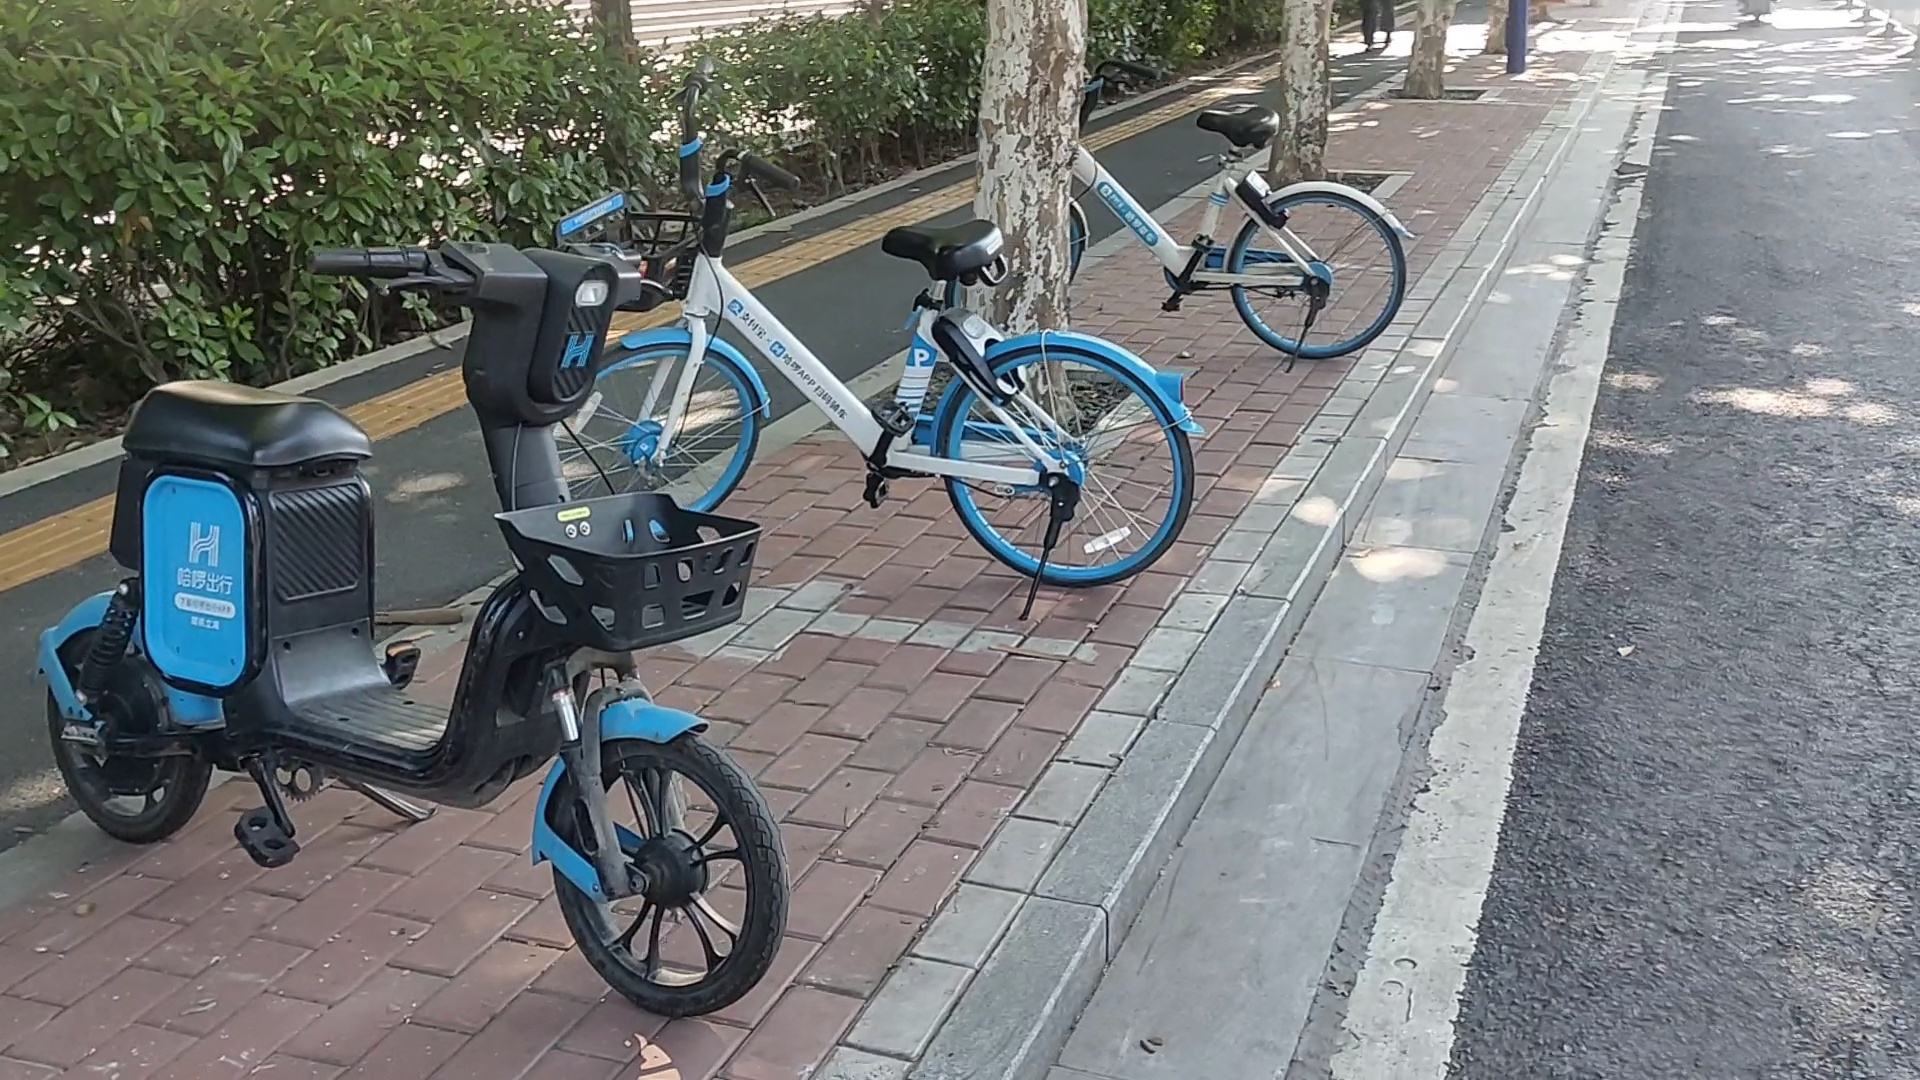non-vehicle: (47, 178, 785, 1044), (547, 133, 1199, 593), (922, 69, 1422, 359)
